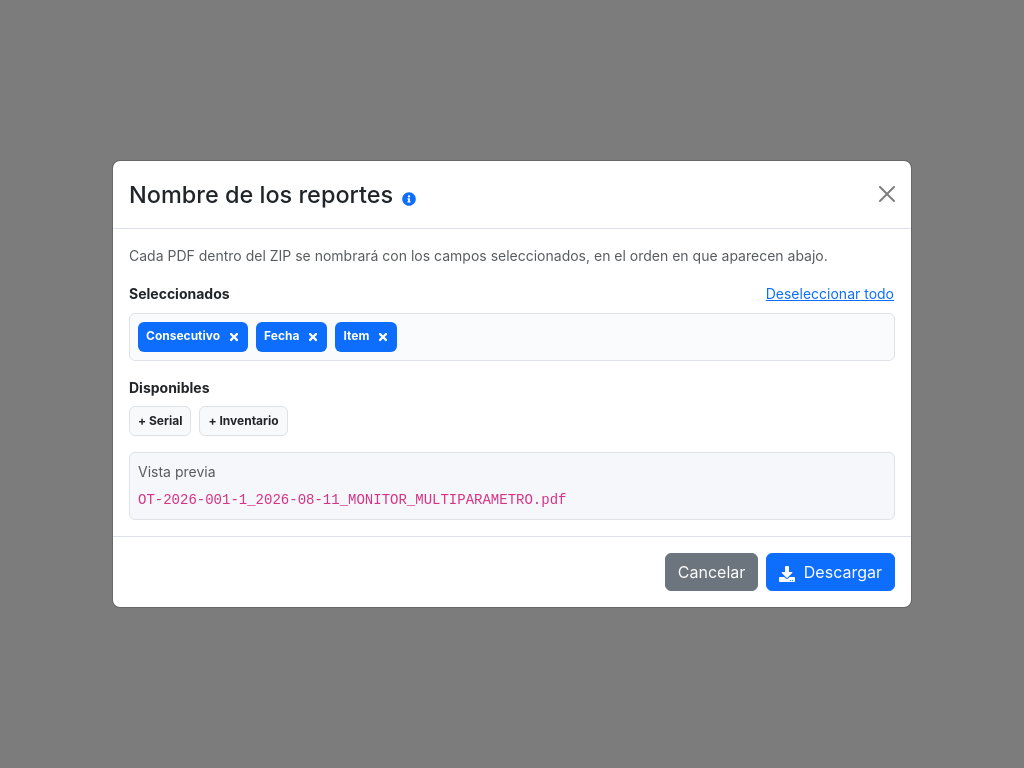
it: PdfReportsFilenameModal › Deseleccionar todo empties the selection and disables submit
Click the button "Deseleccionar todo": coordinates (830, 294) [765, 282, 895, 305]
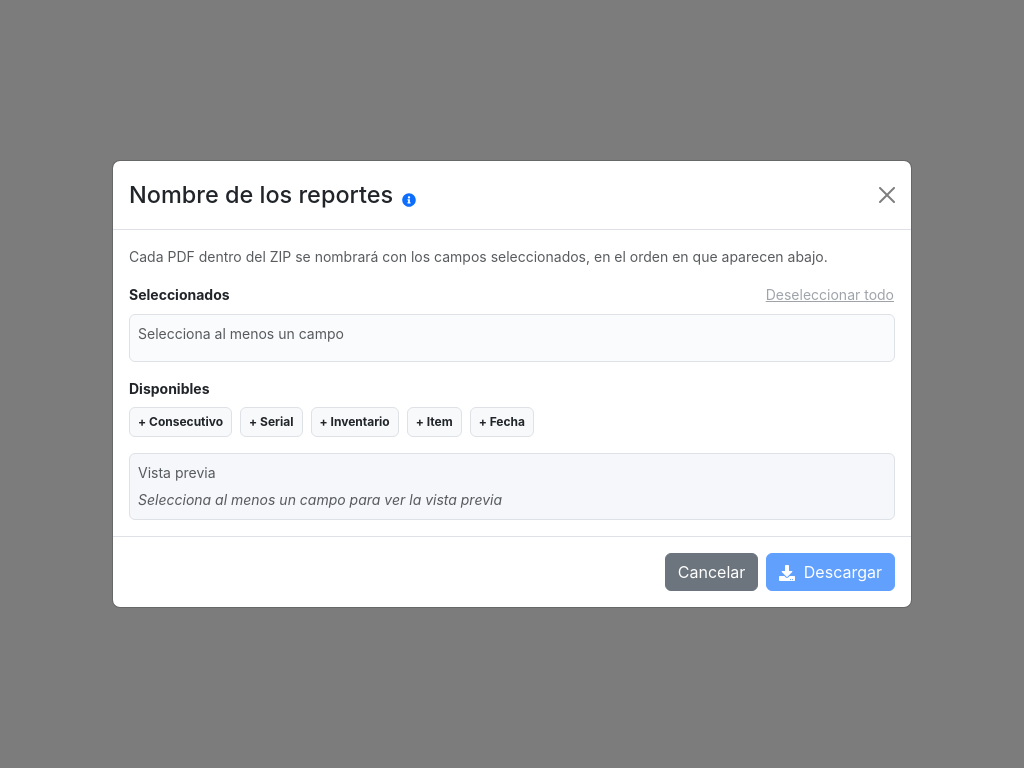
Expected: the text "Selecciona al menos un campo" is shown, [138, 325, 344, 342]
Expected: the button "Descargar" is disabled, [766, 553, 895, 591]
